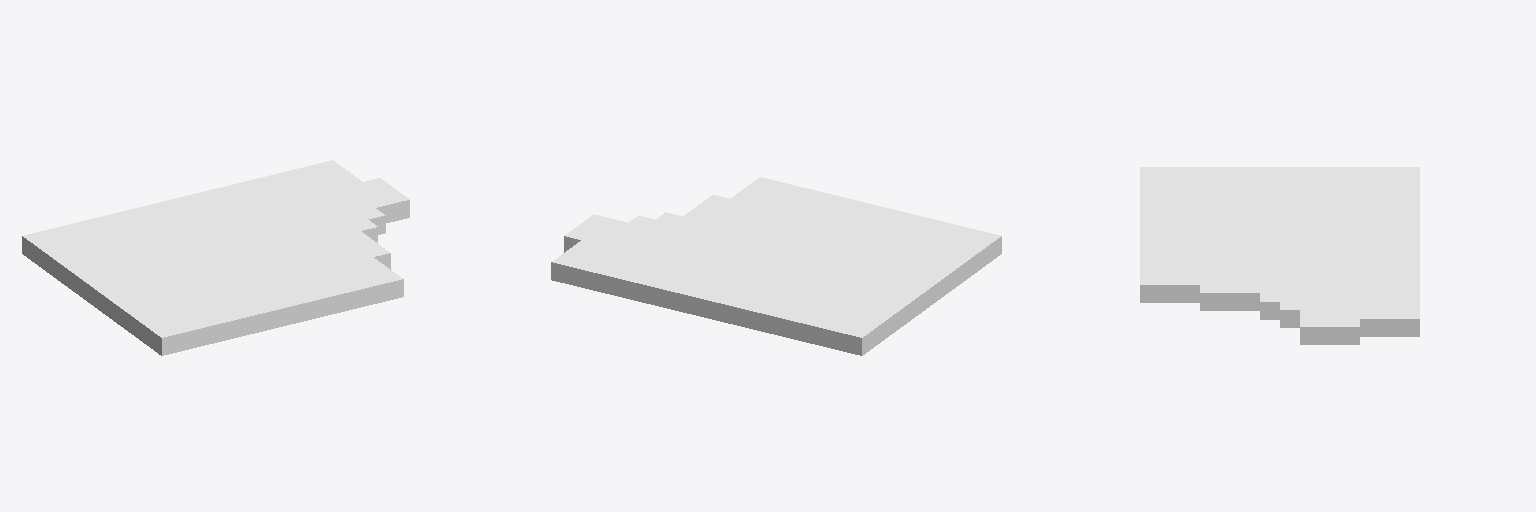
Rendered from smg.obj.
3 renders of one model, left to right at view 1: azimuth 30°, elevation 25°; view 2: azimuth 150°, elevation 25°; view 3: azimuth 270°, elevation 25°, orthographic.
Parts seen in each view (by area): view 1: object 1; view 2: object 1; view 3: object 1.
Boxes of the visible parts, x1=… form: object 1: x1=22, y1=160, x2=409, y2=355; object 1: x1=551, y1=177, x2=1001, y2=355; object 1: x1=1140, y1=167, x2=1419, y2=344.
Size of the model in its own units: 1.9 by 0.1 by 1.4.